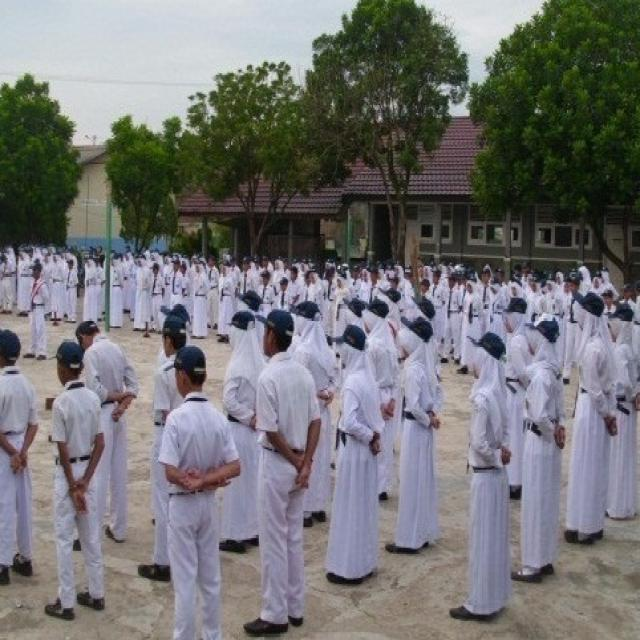peserta: (152, 338, 227, 640), (46, 339, 120, 627), (464, 326, 519, 631), (255, 301, 301, 640), (523, 313, 575, 601), (76, 303, 132, 555), (398, 316, 452, 574), (330, 320, 378, 604), (1, 322, 41, 616), (142, 308, 182, 593), (572, 284, 606, 564), (294, 299, 333, 530), (224, 309, 260, 553), (603, 292, 640, 525), (498, 289, 530, 503), (366, 284, 396, 506), (23, 255, 51, 383), (78, 248, 105, 348), (106, 247, 131, 348), (428, 265, 449, 361), (46, 248, 68, 328), (192, 245, 208, 345), (446, 265, 462, 365), (217, 245, 232, 349), (133, 254, 151, 340), (304, 258, 325, 326), (333, 258, 352, 330), (170, 250, 185, 338), (467, 267, 479, 373), (64, 256, 80, 334), (391, 266, 415, 316), (560, 274, 574, 358), (542, 273, 556, 354), (152, 258, 166, 338), (495, 277, 510, 345), (480, 260, 494, 327), (19, 249, 31, 326), (258, 263, 272, 329), (239, 248, 251, 320), (529, 266, 541, 338), (3, 253, 16, 317), (509, 274, 524, 329), (287, 256, 300, 319), (274, 268, 288, 326), (358, 262, 372, 315), (598, 259, 617, 297), (579, 253, 591, 304), (374, 264, 387, 306)
